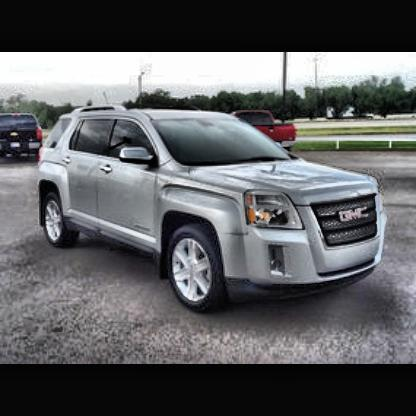GMC Terrain SUV 2012: (38, 103, 389, 314)
